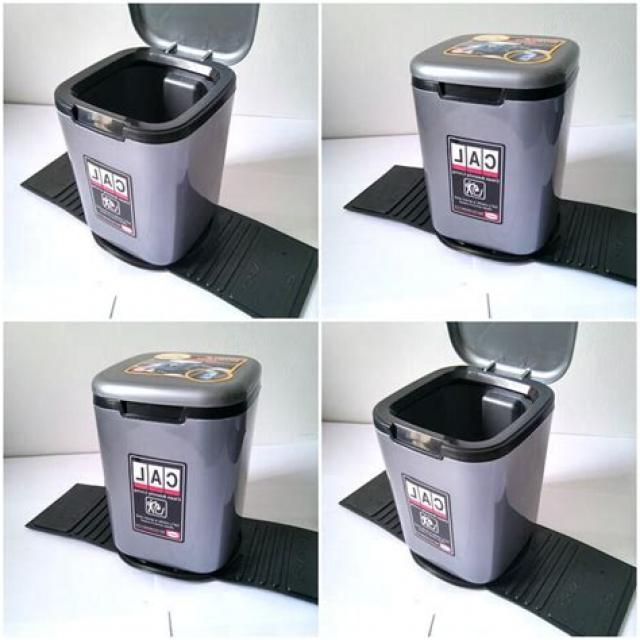garbage container: (0, 0, 292, 277), (26, 339, 294, 600), (342, 327, 596, 592), (370, 18, 584, 270)
